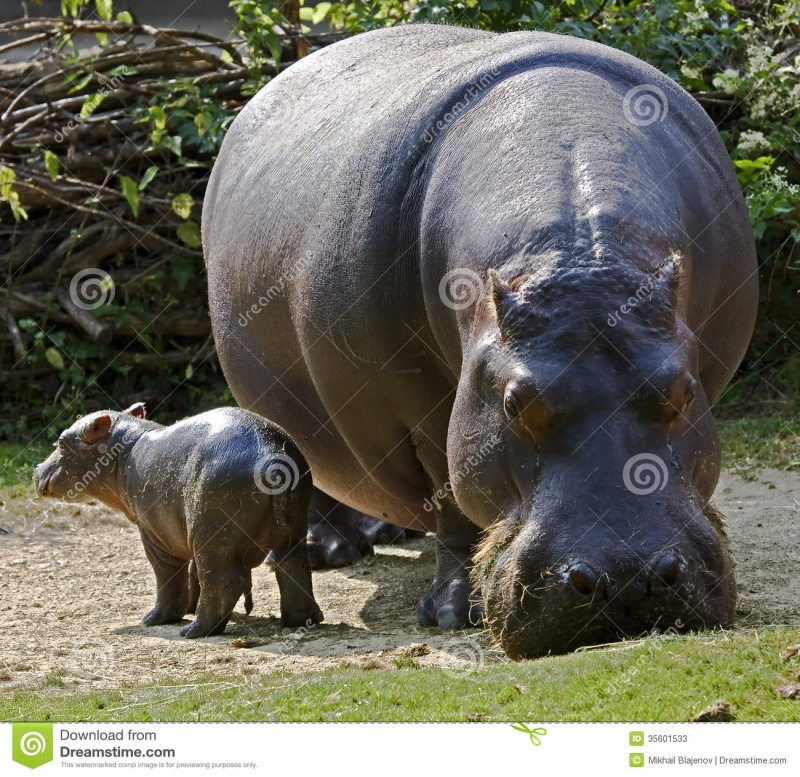hipopotamo: (213, 17, 751, 644), (32, 399, 331, 661)
